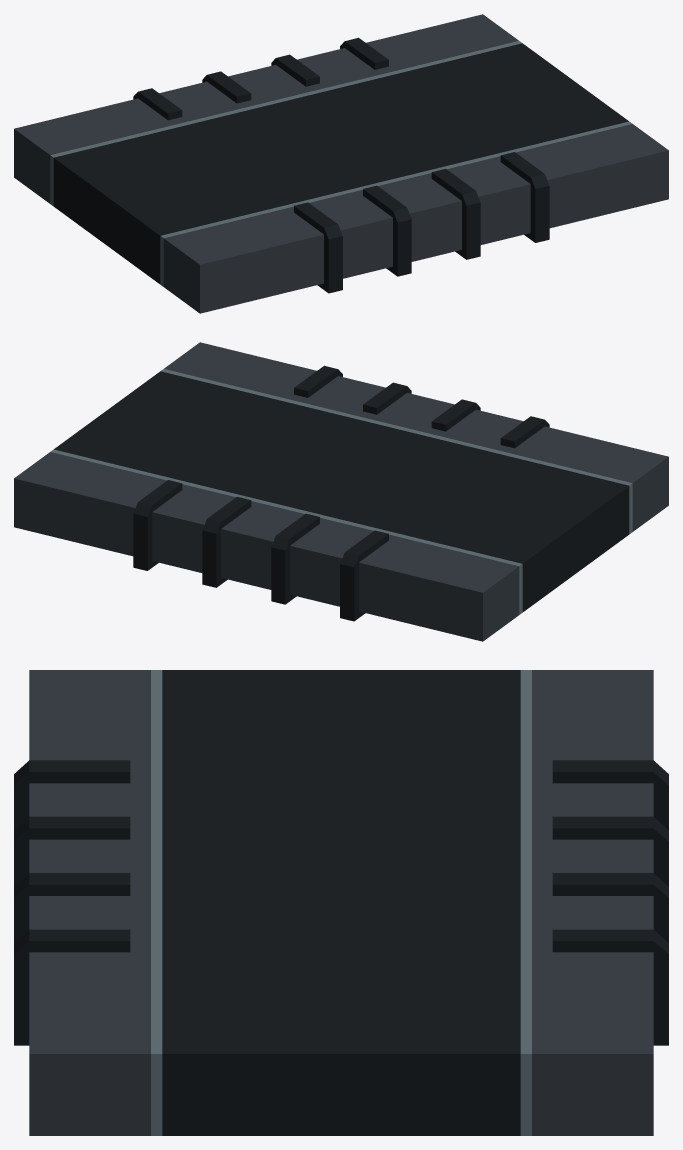
Rendered from prop34.FBX.
3 views of the same model, one above another, from view 1: azimuth 30°, elevation 25°; view 2: azimuth 150°, elevation 25°; view 3: azimuth 270°, elevation 25° (orthographic). The views are drawn at different scales.
Visible parts, largest first — view 1: prop34; view 2: prop34; view 3: prop34.
Part boxes in pixels (x1=…): prop34: x1=14, y1=14, x2=668, y2=313; prop34: x1=14, y1=342, x2=668, y2=641; prop34: x1=14, y1=670, x2=668, y2=1135.
Size of the model in its own units: 22.22 by 2.82 by 16.03.
